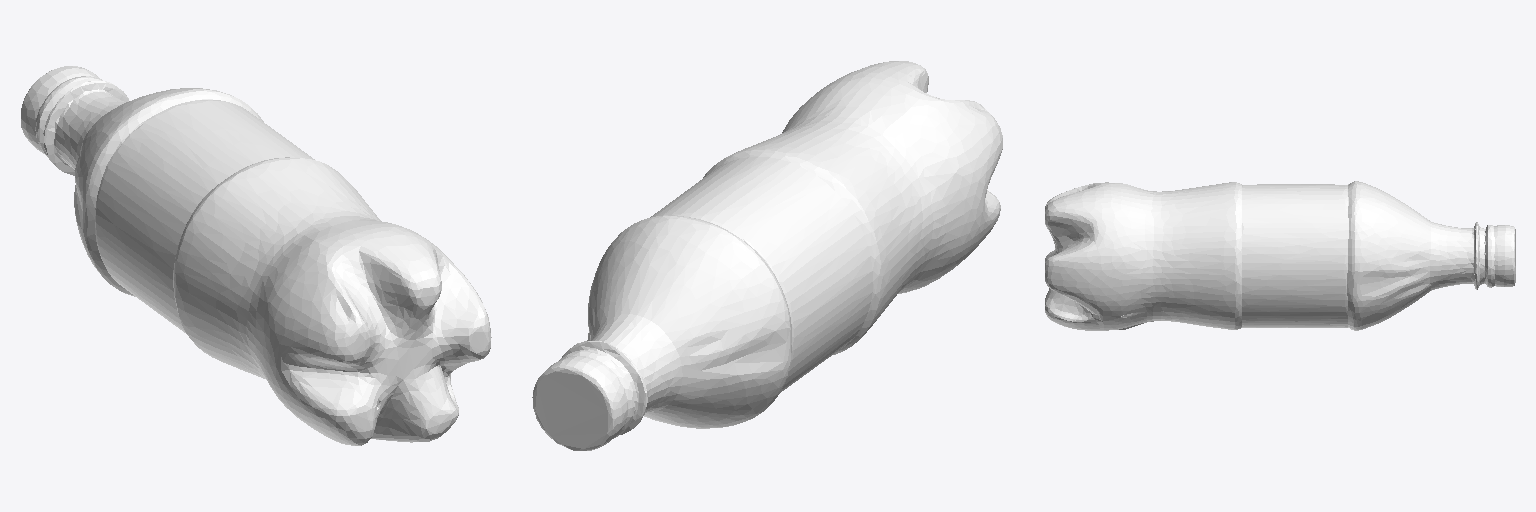
robot.urdf — coke_bottle:
<?xml version="1.0" ?>
<robot name="coke_bottle">
    <link name="baseLink">
        <contact>
        <friction_anchor/>
        <lateral_friction value="1.5"/>
        <rolling_friction value="0.1"/>
        <spinning_friction value="0.1"/>
        <contact_cfm value="1e-5"/>
        <contact_erp value="0.8"/>
        </contact>
        <visual>
            <origin rpy="0 0 0" xyz="0 0 0"/>
            <geometry>
                <mesh filename="assets/objects/coke_bottle/meshes/coke_bottle_textured.obj" scale="1 1 1"/>
            </geometry>
            <material name="white">
                <color rgba="1 1 1 1"/>
            </material>
        </visual>
        <collision>
            <origin rpy="0 0 0" xyz="0 0 0"/>
            <geometry>
                <mesh filename="assets/objects/coke_bottle/meshes/coke_bottle_textured.obj" scale="1 1 1"/>
            </geometry>
        </collision>
        <inertial>
            <origin rpy="0 0 0" xyz="0 0 0"/>
            <mass value="1.0"/>
            <inertia ixx="0.1" ixy="0" ixz="0" iyy="0.1" iyz="0" izz="0.1"/>
        </inertial>
    </link>
</robot>

--- Facts derived from the render (not from the file) ---
Views: 3 orthographic renders of the robot side by side, from view 1: azimuth 30°, elevation 25°; view 2: azimuth 150°, elevation 25°; view 3: azimuth 270°, elevation 25°.
Robot: coke_bottle — 1 links, 0 joints (none); root link baseLink; default pose: all joints at 0.
Visible links, largest first — view 1: baseLink; view 2: baseLink; view 3: baseLink.
Boxes of the visible links, left/top/right/bottom form: baseLink: left=21, top=66, right=491, bottom=445; baseLink: left=532, top=61, right=1002, bottom=450; baseLink: left=1045, top=181, right=1515, bottom=330.
Bounding box of the posed robot: 0.3103 × 1 × 0.3116 m (x, y, z).
1 mesh visuals loaded from 1 distinct referenced files (1 OBJ).
